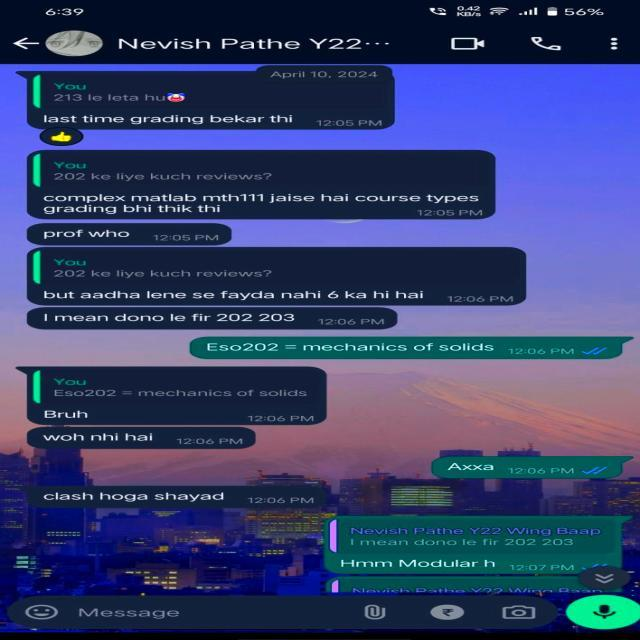scam: (42, 192, 488, 216), (28, 286, 454, 306), (26, 108, 327, 128), (41, 485, 252, 507), (29, 314, 302, 326), (32, 426, 158, 450), (31, 224, 140, 243), (40, 407, 102, 422)
